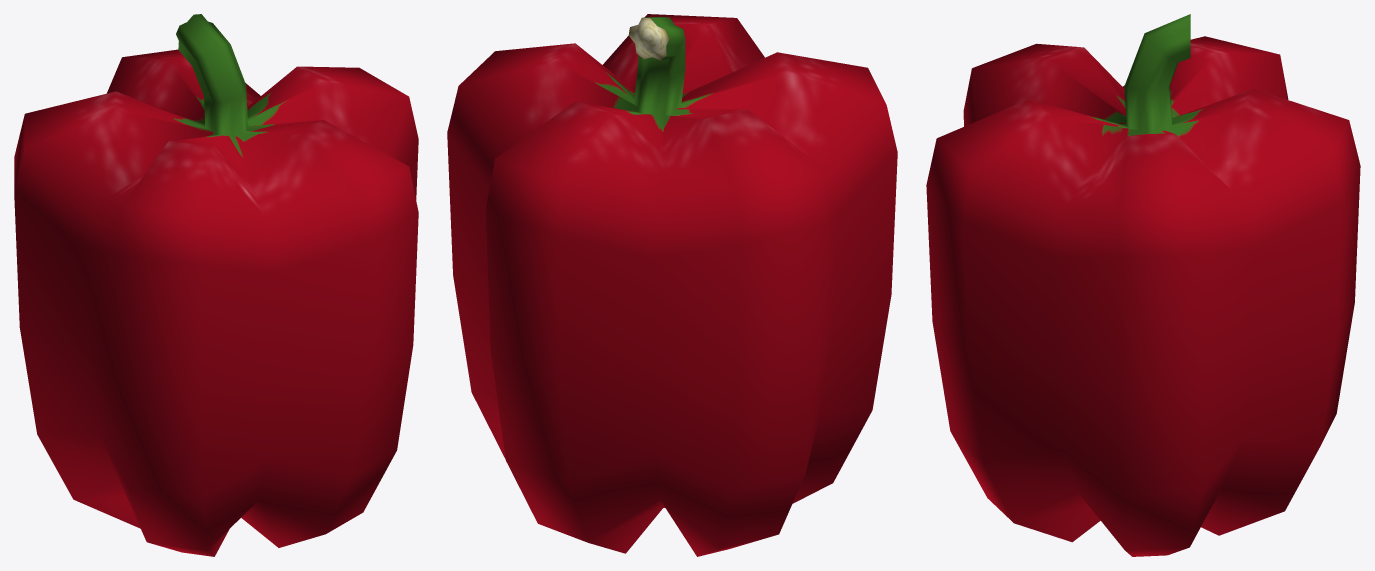
Rendered from CapsicumRed.fbx.
The picture shows the model from 3 angles, left to right: view 1: azimuth 30°, elevation 25°; view 2: azimuth 150°, elevation 25°; view 3: azimuth 270°, elevation 25°; orthographic projection. The views are drawn at different scales.
Parts seen in each view (by area): view 1: CapsicumRed; view 2: CapsicumRed; view 3: CapsicumRed.
Part boxes in pixels (<box>): CapsicumRed: <box>14,14,418,556</box>; CapsicumRed: <box>447,14,897,556</box>; CapsicumRed: <box>926,14,1360,556</box>.
Size of the model in its own units: 15.29 by 19.92 by 15.54.
